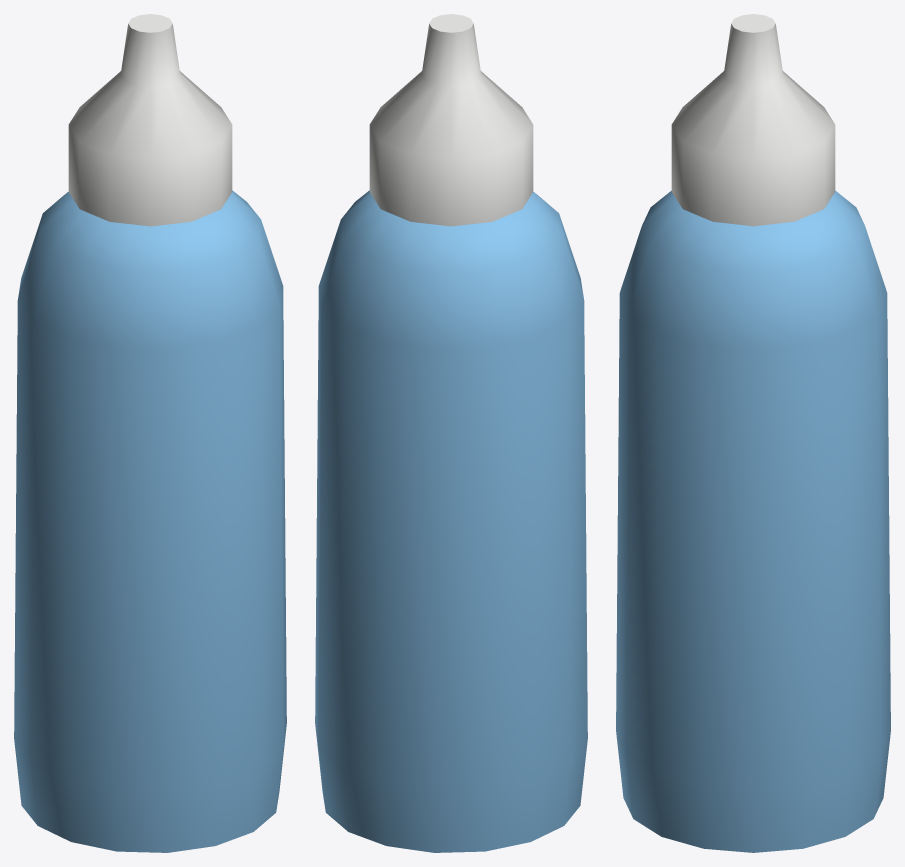
The model's file is bottle.glb.
The picture shows the model from 3 angles, left to right: view 1: azimuth 30°, elevation 25°; view 2: azimuth 150°, elevation 25°; view 3: azimuth 270°, elevation 25°; orthographic projection.
Parts seen in each view (by area): view 1: body, cap; view 2: body, cap; view 3: body, cap.
Boxes of the visible parts, left/top/right/bottom form: body: left=14, top=190, right=286, bottom=852; cap: left=68, top=14, right=232, bottom=226; body: left=315, top=190, right=587, bottom=852; cap: left=369, top=14, right=533, bottom=226; body: left=616, top=190, right=890, bottom=852; cap: left=671, top=14, right=835, bottom=226.
Bounding box in the file's own units: 0.074 × 0.23 × 0.074.
